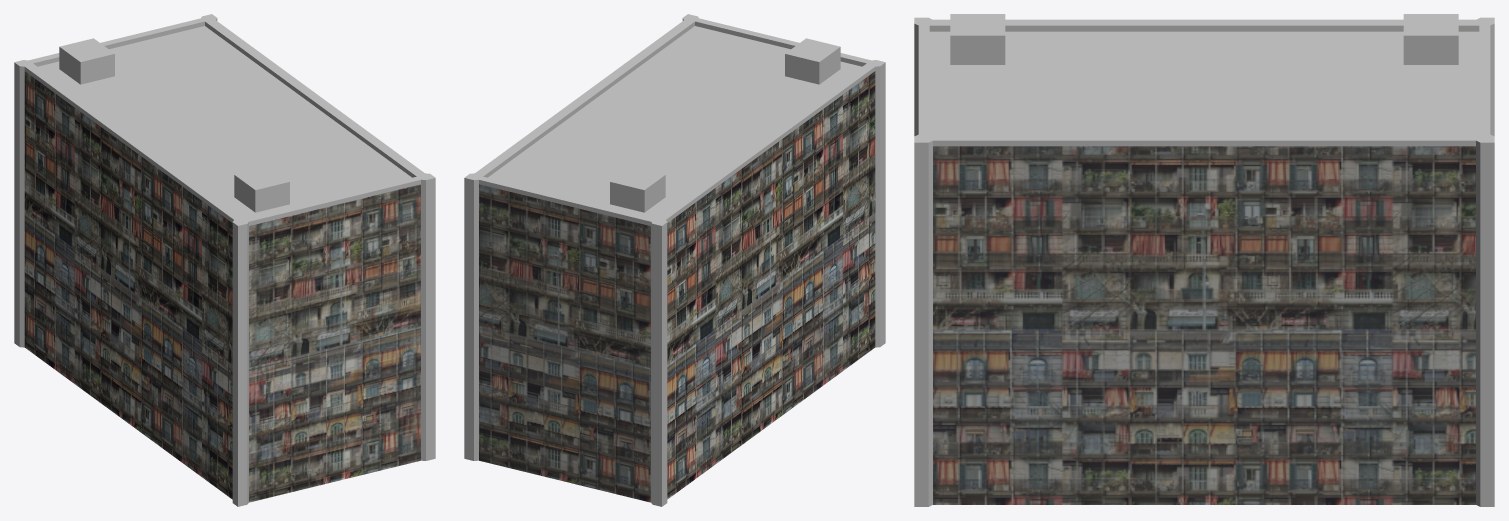
File: Building_001_textured.fbx
3 renders of one model, left to right at view 1: azimuth 30°, elevation 25°; view 2: azimuth 150°, elevation 25°; view 3: azimuth 270°, elevation 25°, orthographic. The views are drawn at different scales.
Visible parts, largest first — view 1: arch_building001; view 2: arch_building001; view 3: arch_building001.
Part boxes in pixels (box(x1,y1,x2,y2)): arch_building001: box(14, 14, 435, 506); arch_building001: box(464, 14, 885, 506); arch_building001: box(914, 14, 1494, 506).
Bounding box in the file's own units: 114 × 165 × 223.
